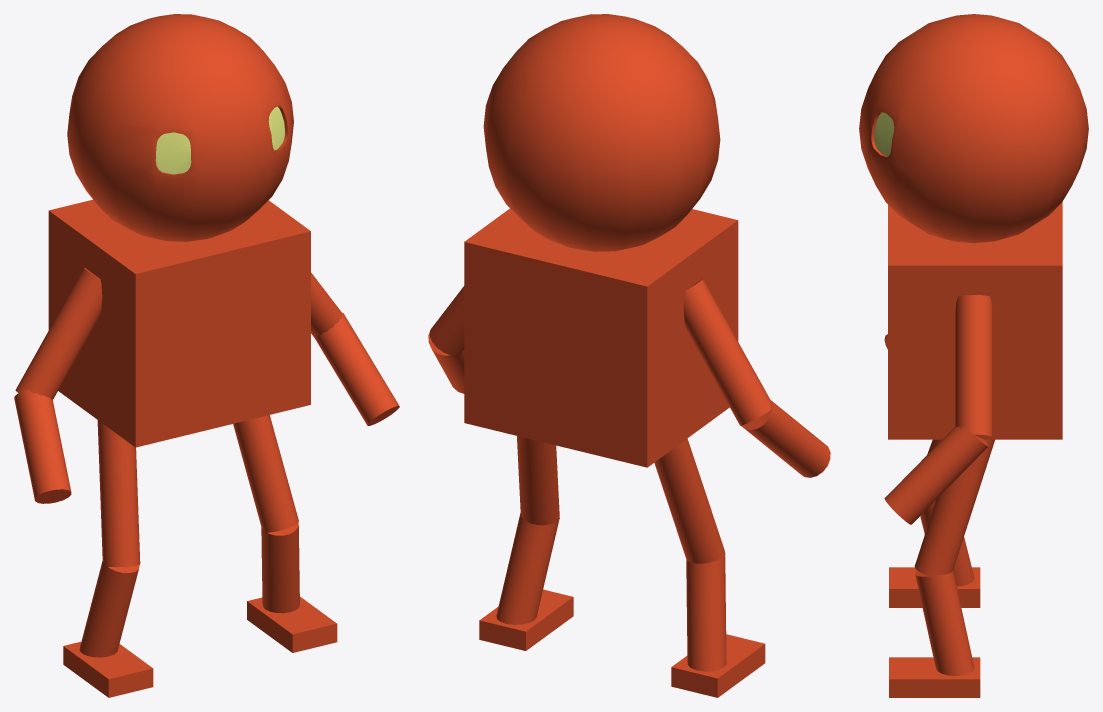
File: Andi2.fbx
The picture shows the model from 3 angles, left to right: view 1: azimuth 30°, elevation 25°; view 2: azimuth 150°, elevation 25°; view 3: azimuth 270°, elevation 25°; orthographic projection. The views are drawn at different scales.
Parts seen in each view (by area): view 1: Cube.002; view 2: Cube.002; view 3: Cube.002.
Boxes of the visible parts, x1,y1,x2,y2 form: Cube.002: [14, 14, 399, 697]; Cube.002: [428, 14, 830, 697]; Cube.002: [859, 14, 1088, 697].
Size of the model in its own units: 365 by 593 by 200.
